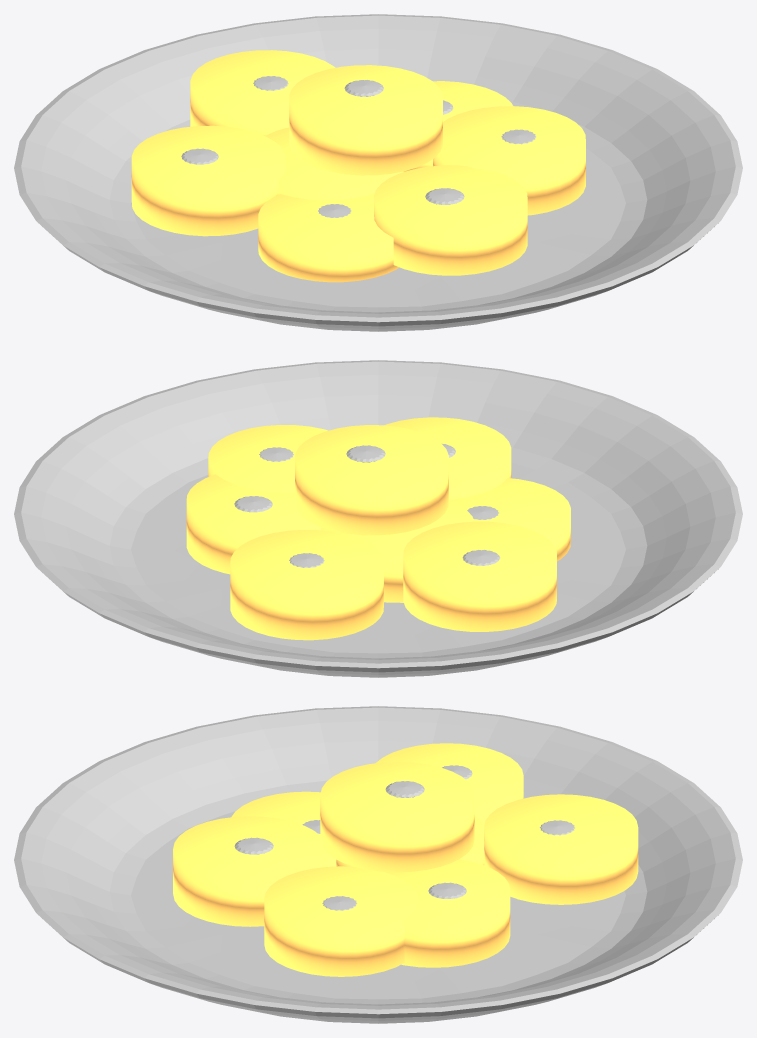
Rendered from kue bingka kentang.fbx.
3 views of the same model, one above another, from view 1: azimuth 30°, elevation 25°; view 2: azimuth 150°, elevation 25°; view 3: azimuth 270°, elevation 25° (orthographic).
Parts seen in each view (by area): view 1: Cylinder, Cylinder.003, Cylinder.005, Cylinder.008, Cylinder.004, Cylinder.006, Cylinder.007, Cylinder.002, Cylinder.001, Cylinder.014, Cylinder.009; view 2: Cylinder, Cylinder.007, Cylinder.008, Cylinder.003, Cylinder.001, Cylinder.005, Cylinder.004, Cylinder.006, Cylinder.002, Cylinder.009; view 3: Cylinder, Cylinder.003, Cylinder.007, Cylinder.004, Cylinder.005, Cylinder.001, Cylinder.008, Cylinder.006, Cylinder.002, Cylinder.009, Cylinder.014.
Part boxes in pixels (x1=…): Cylinder: x1=14, y1=14, x2=742, y2=331; Cylinder.003: x1=289, y1=65, x2=442, y2=175; Cylinder.005: x1=374, y1=165, x2=527, y2=275; Cylinder.008: x1=131, y1=125, x2=285, y2=236; Cylinder.004: x1=433, y1=106, x2=585, y2=215; Cylinder.006: x1=258, y1=193, x2=398, y2=282; Cylinder.007: x1=190, y1=50, x2=335, y2=135; Cylinder.002: x1=265, y1=127, x2=403, y2=200; Cylinder.001: x1=403, y1=81, x2=512, y2=171; Cylinder.014: x1=425, y1=188, x2=464, y2=204; Cylinder.009: x1=344, y1=80, x2=383, y2=96; Cylinder: x1=14, y1=360, x2=742, y2=677; Cylinder.007: x1=230, y1=530, x2=383, y2=640; Cylinder.008: x1=403, y1=521, x2=556, y2=631; Cylinder.003: x1=295, y1=425, x2=448, y2=535; Cylinder.001: x1=186, y1=474, x2=321, y2=574; Cylinder.005: x1=385, y1=417, x2=511, y2=499; Cylinder.004: x1=208, y1=425, x2=327, y2=492; Cylinder.006: x1=449, y1=478, x2=570, y2=561; Cylinder.002: x1=321, y1=500, x2=474, y2=602; Cylinder.009: x1=346, y1=445, x2=385, y2=462; Cylinder: x1=14, y1=706, x2=742, y2=1023; Cylinder.003: x1=320, y1=762, x2=474, y2=872; Cylinder.007: x1=484, y1=794, x2=638, y2=904; Cylinder.004: x1=264, y1=866, x2=418, y2=976; Cylinder.005: x1=173, y1=816, x2=327, y2=926; Cylinder.001: x1=385, y1=859, x2=510, y2=967; Cylinder.008: x1=376, y1=743, x2=523, y2=824; Cylinder.006: x1=231, y1=791, x2=336, y2=866; Cylinder.002: x1=336, y1=815, x2=484, y2=866; Cylinder.009: x1=385, y1=781, x2=424, y2=797; Cylinder.014: x1=234, y1=837, x2=273, y2=854.
Bounding box in the file's own units: 231 × 44.6 × 231.
